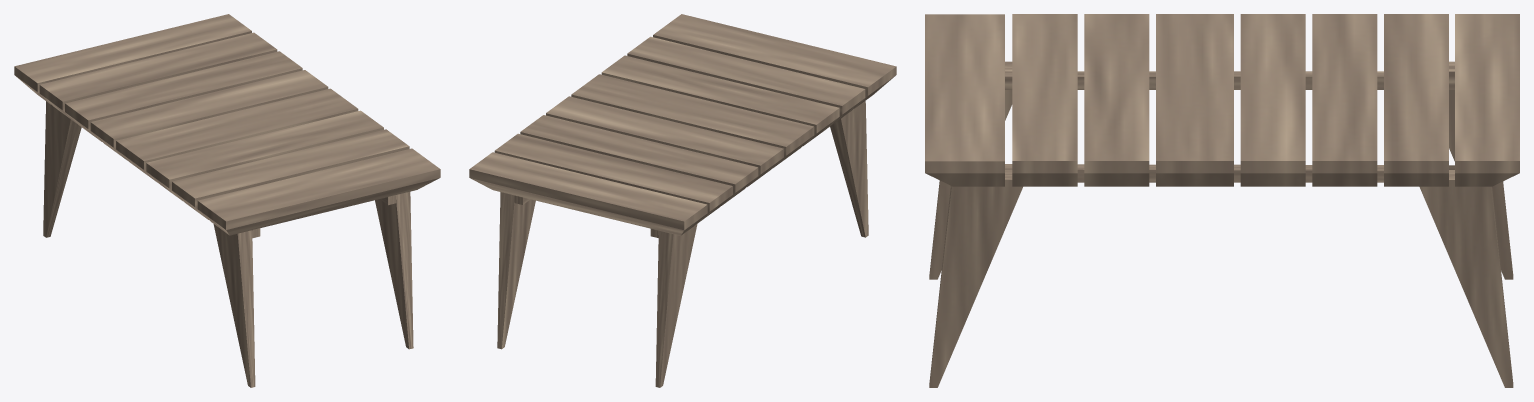
The model's file is Table 1.fbx.
3 views of the same model, side by side, from view 1: azimuth 30°, elevation 25°; view 2: azimuth 150°, elevation 25°; view 3: azimuth 270°, elevation 25° (orthographic). The views are drawn at different scales.
Parts seen in each view (by area): view 1: Table_1; view 2: Table_1; view 3: Table_1.
Boxes of the visible parts, box(x1,y1,x2,y2) form: Table_1: box(14, 14, 440, 387); Table_1: box(469, 14, 896, 387); Table_1: box(925, 14, 1519, 387).
Bounding box in the file's own units: 134 × 104 × 228.
Materials: 1 (1 with a texture image).
